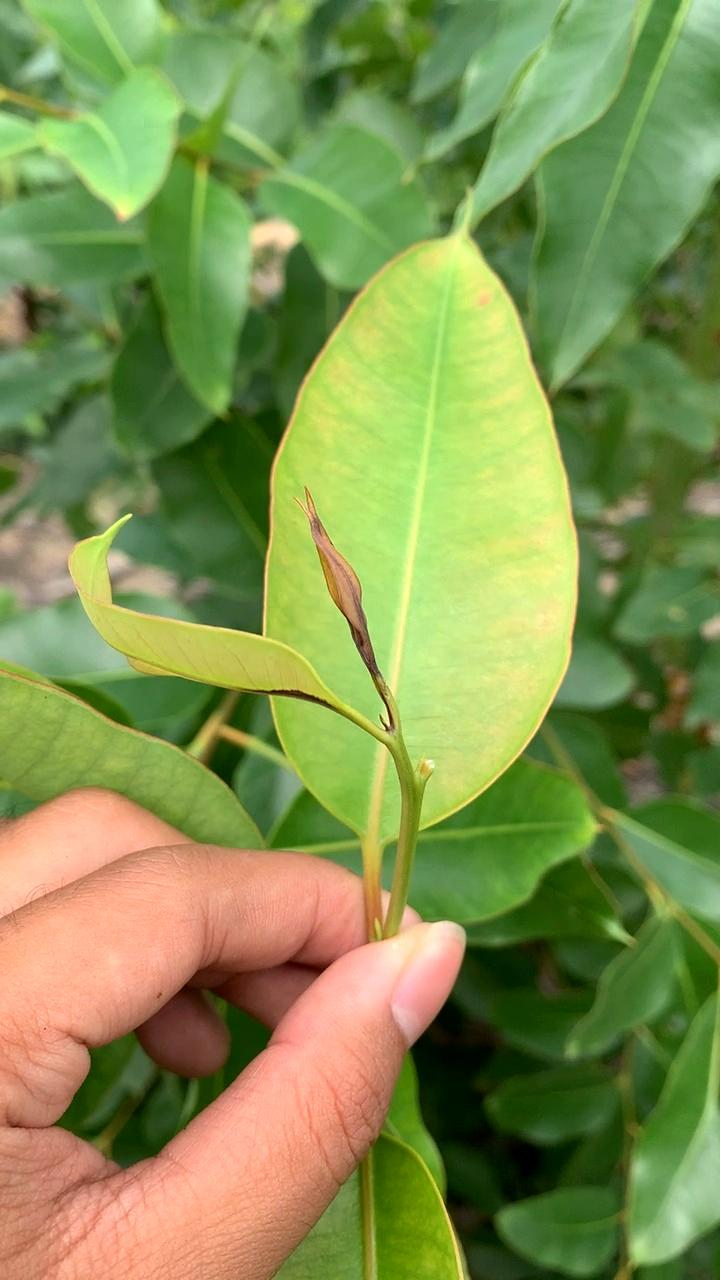Helopeltis-Withered Sprout: (300, 493, 413, 719)
